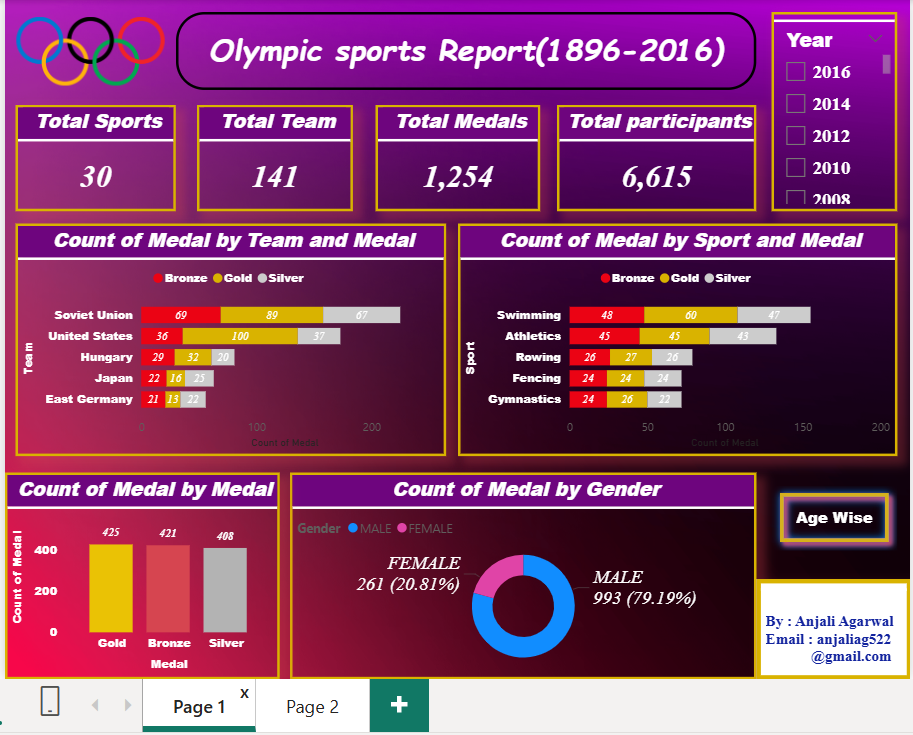

The page's visual inventory and layout, read from the dashboard file:
{"tool":"powerbi","page":{"name":"Page 1","canvas":[960,720],"ordinal":0},"visuals":[{"type":"image","box":[0,12.7,181.3,82.7],"z":0},{"type":"textbox","box":[181.3,12.7,615.6,82.7],"z":1000},{"type":"card","title":"Total Sports","fields":{"Values":["Count(athlete_events.Sport)"]},"box":[11.1,111.3,170.2,112.9],"z":2000},{"type":"card","title":"Total Team","fields":{"Values":["Count(athlete_events.Team)"]},"box":[203.6,111.3,165.4,112.9],"z":3000},{"type":"card","title":"Total Medals","fields":{"Values":["CountNonNull(athlete_events.Medal)"]},"box":[392.9,111.3,175,112.9],"z":4000},{"type":"card","title":"Total participants","fields":{"Values":["Count(athlete_events.Name)"]},"box":[585.3,111.3,211.6,112.9],"z":5000},{"type":"slicer","fields":{"Values":["athlete_events.Year"]},"box":[812.8,12.7,133.6,211.6],"z":6000},{"type":"donutChart","fields":{"Category":["athlete_events.Gender"],"Y":["CountNonNull(athlete_events.Medal)"]},"box":[302.2,501,494.7,219.5],"z":7000},{"type":"columnChart","fields":{"Y":["CountNonNull(athlete_events.Medal)"],"Category":["athlete_events.Medal"]},"box":[0,501,291.1,219.5],"z":8000},{"type":"barChart","fields":{"Category":["athlete_events.Team"],"Y":["CountNonNull(athlete_events.Medal)"],"Series":["athlete_events.Medal"]},"box":[11.1,237,456.5,246.5],"z":9000},{"type":"barChart","fields":{"Y":["CountNonNull(athlete_events.Medal)"],"Series":["athlete_events.Medal"],"Category":["athlete_events.Sport"]},"box":[480.4,237,466,246.5],"z":10000},{"type":"textbox","box":[796.9,614,163.8,106.6],"z":11000},{"type":"actionButton","box":[813.3,513.3,133.3,70],"z":12000}]}

Visuals, with their boxes on the page's 960x720 design canvas (x1, y1, x2, y2). These are canvas units, not pixel positions in the 913x735 screenshot, which may show the page scaled, cropped or inside an application window:
image: locate(0, 13, 181, 95)
textbox: locate(181, 13, 797, 95)
"Total Sports" card: locate(11, 111, 181, 224)
"Total Team" card: locate(204, 111, 369, 224)
"Total Medals" card: locate(393, 111, 568, 224)
"Total participants" card: locate(585, 111, 797, 224)
slicer - athlete_events.Year: locate(813, 13, 946, 224)
donutChart - athlete_events.Gender x CountNonNull(athlete_events.Medal): locate(302, 501, 797, 720)
columnChart - CountNonNull(athlete_events.Medal) x athlete_events.Medal: locate(0, 501, 291, 720)
barChart - athlete_events.Team x CountNonNull(athlete_events.Medal): locate(11, 237, 468, 484)
barChart - CountNonNull(athlete_events.Medal) x athlete_events.Medal: locate(480, 237, 946, 484)
textbox: locate(797, 614, 961, 721)
actionButton: locate(813, 513, 947, 583)
